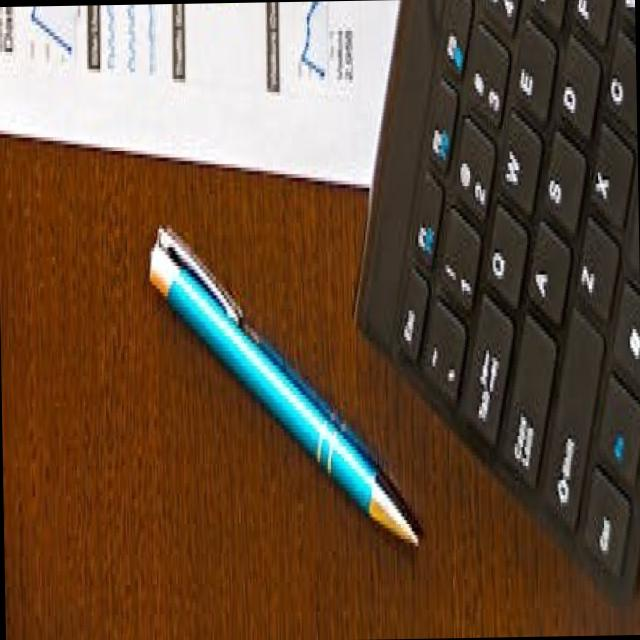pen: (132, 194, 439, 570)
